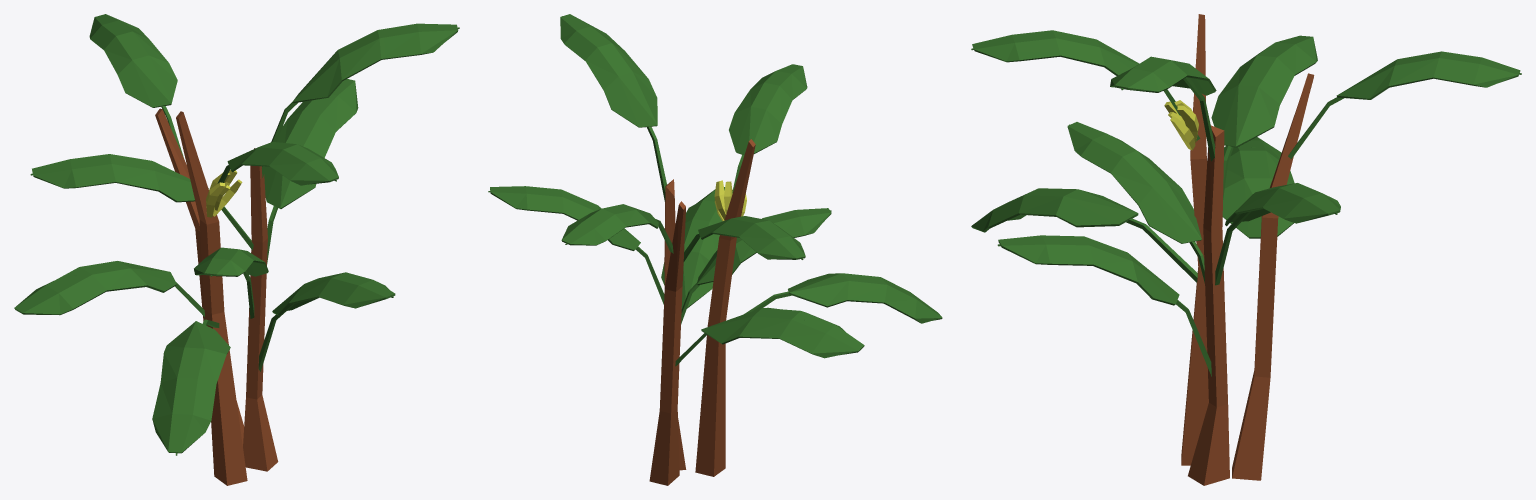
File: bunker47-prop-palm09.glb
The picture shows the model from 3 angles, left to right: view 1: azimuth 30°, elevation 25°; view 2: azimuth 150°, elevation 25°; view 3: azimuth 270°, elevation 25°; orthographic projection. The views are drawn at different scales.
Visible parts, largest first — view 1: Tree_Tropic_009; view 2: Tree_Tropic_009; view 3: Tree_Tropic_009.
Part boxes in pixels (<box>): Tree_Tropic_009: <box>14,14,459,485</box>; Tree_Tropic_009: <box>488,14,942,485</box>; Tree_Tropic_009: <box>971,14,1521,485</box>.
Size of the model in its own units: 442 by 470 by 490.
1 material, 1 textured.
